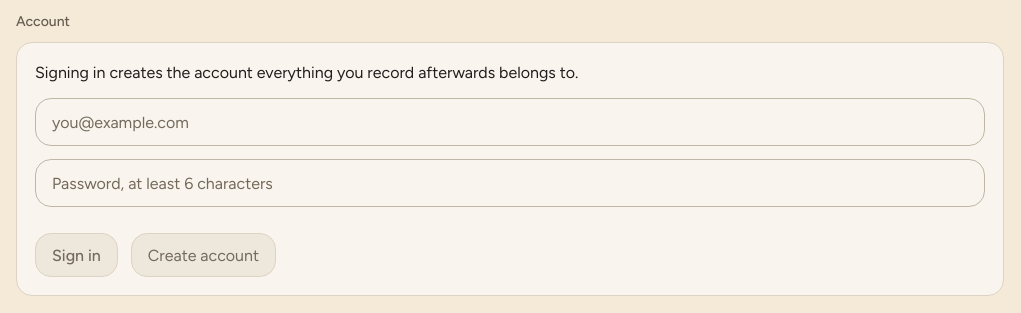
Test: sign-in › tells the caller which account everything afterwards belongs to
Check: the text "Signing in creates the account" is shown, box x1=35 y1=63 x2=578 y2=82
Type "a@example.com" into the field with placeholder "you@example.com" at (510, 122), box x1=35 y1=98 x2=985 y2=146
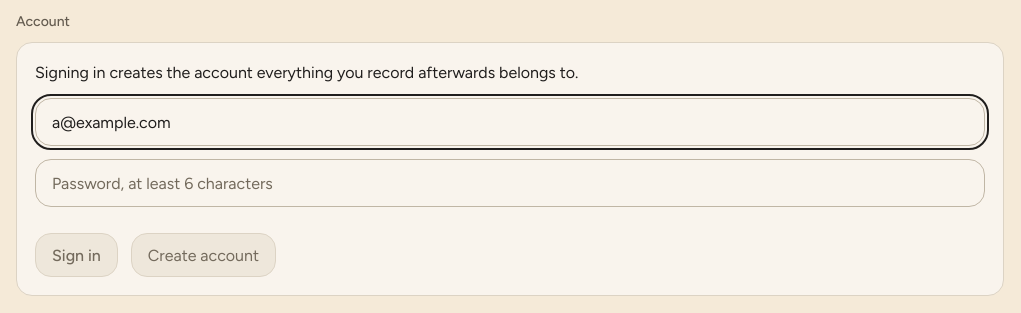
Type "hunter2" into the password field with placeholder "Password, at least 6 characters" at (510, 184), box x1=35 y1=160 x2=985 y2=208
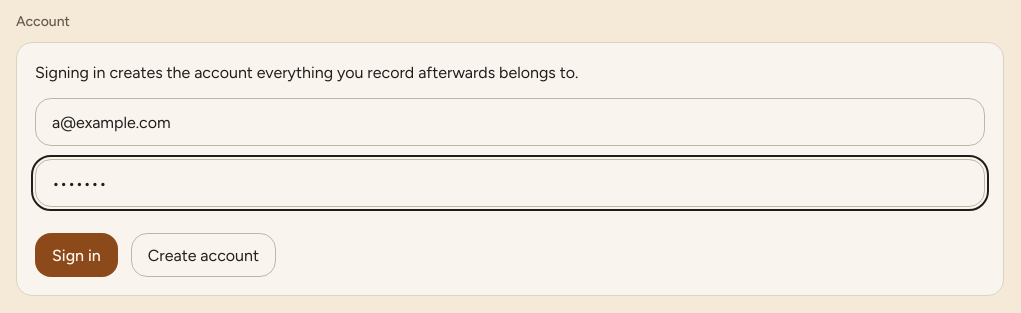
Click the button "Sign in" at (76, 256), box x1=35 y1=234 x2=118 y2=278
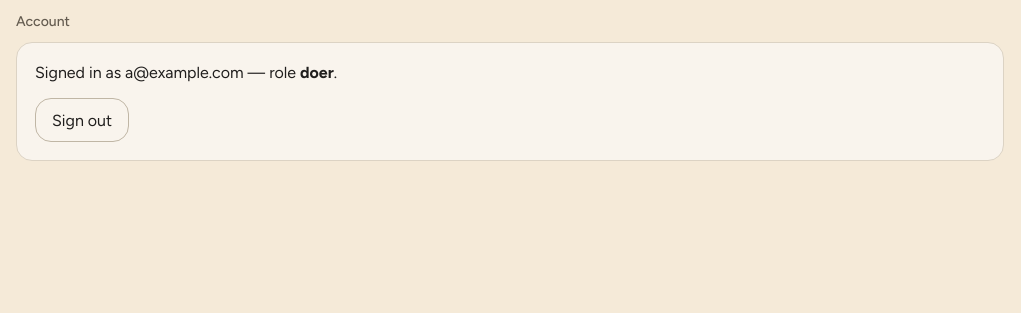
Check: the text "Signed in as a@example.com — role doer." is shown, box x1=35 y1=63 x2=337 y2=82
